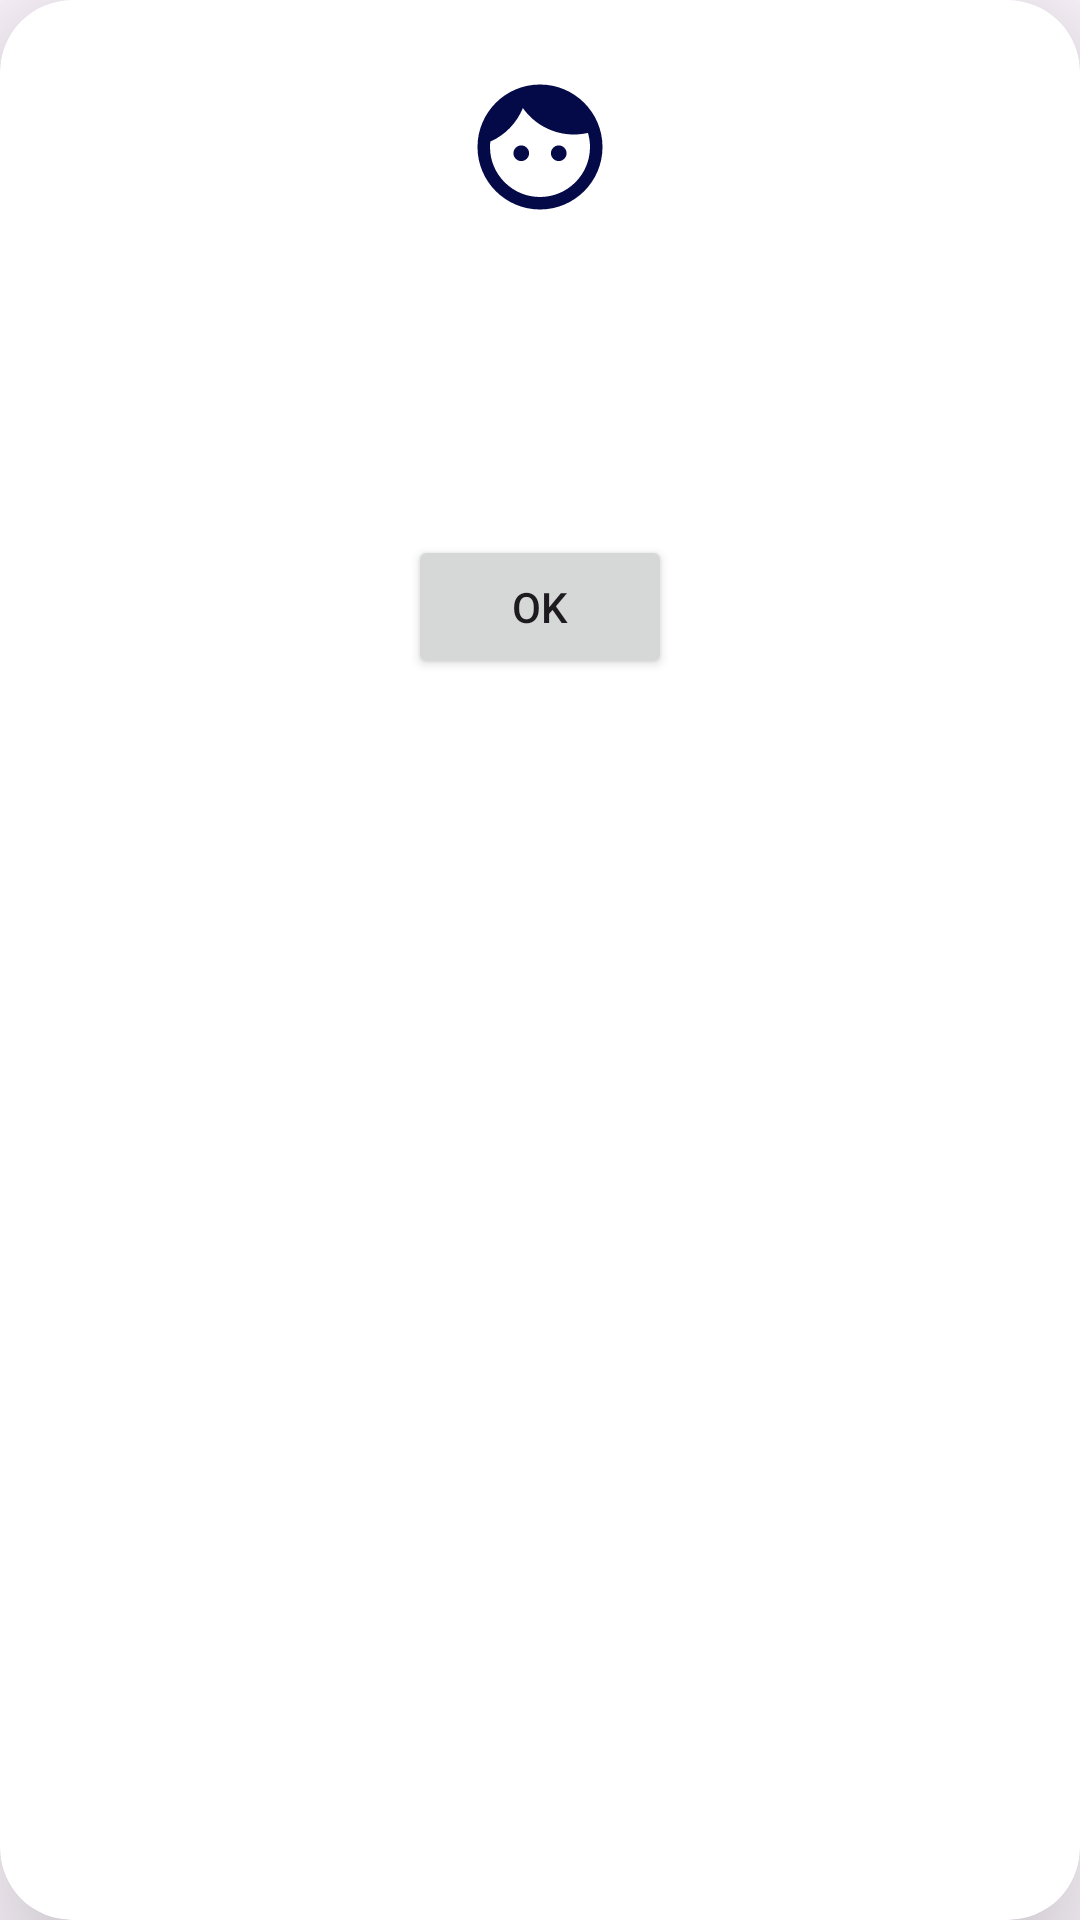

Named icons in this screenshot (1080px x 1920px) and their bounding boxes, region(x1, y1, x2, y2):
face: region(477, 84, 603, 210)
